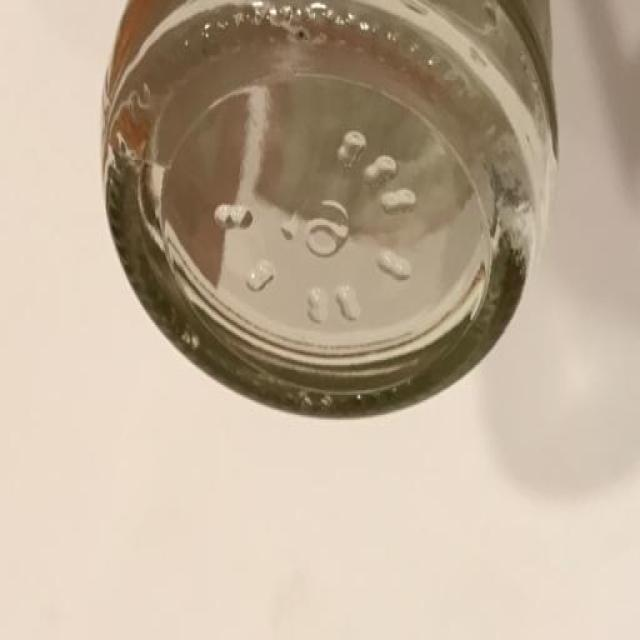glass: (96, 0, 578, 432)
